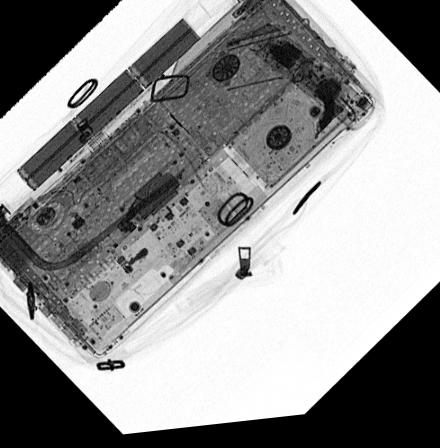Baton: (247, 27, 375, 140)
